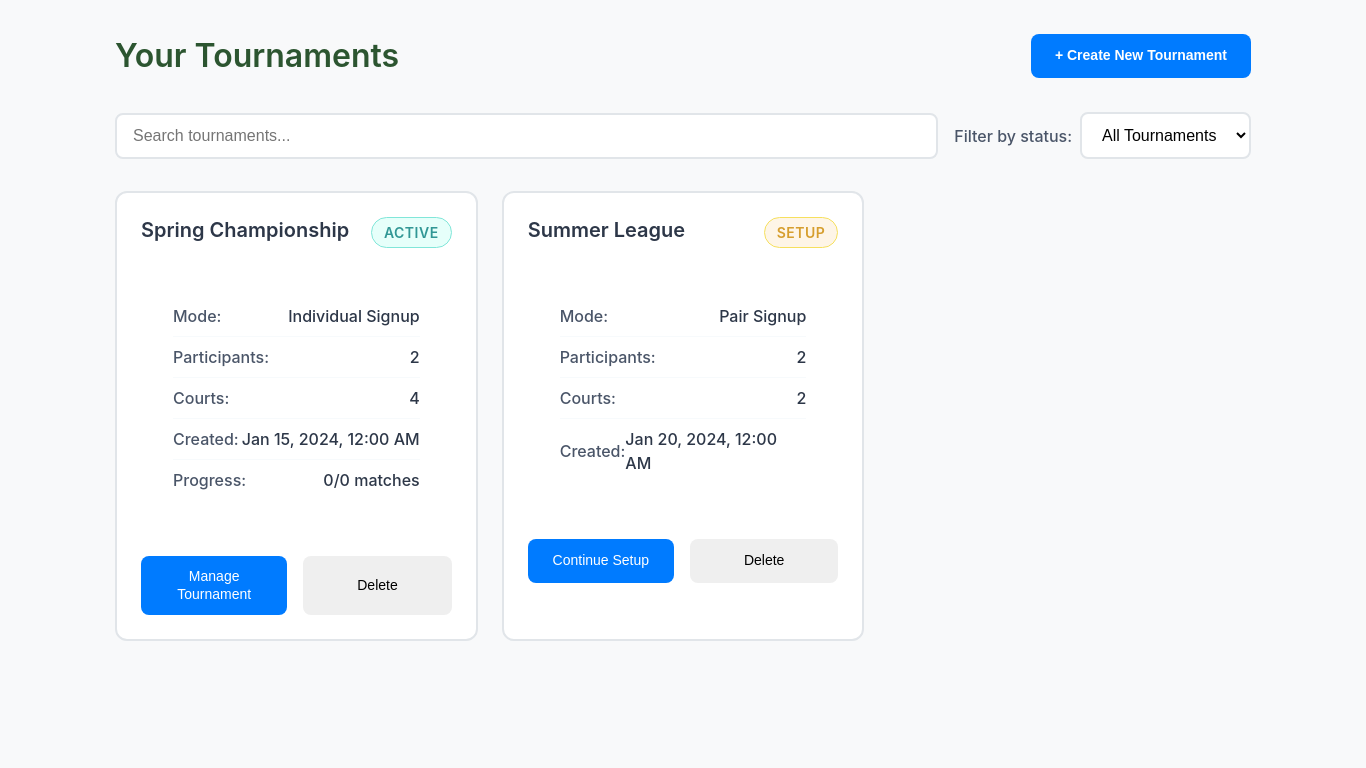
Test: TournamentList › filters tournaments by search term
This screenshot has width=1366, height=768.
expect the heading "Spring Championship" is shown: met, box [141, 217, 355, 243]
expect the heading "Summer League" is shown: met, box [528, 218, 685, 242]
In the field with placeholder "Search tournaments...": [527, 136] box [115, 112, 938, 158], type "Spring"
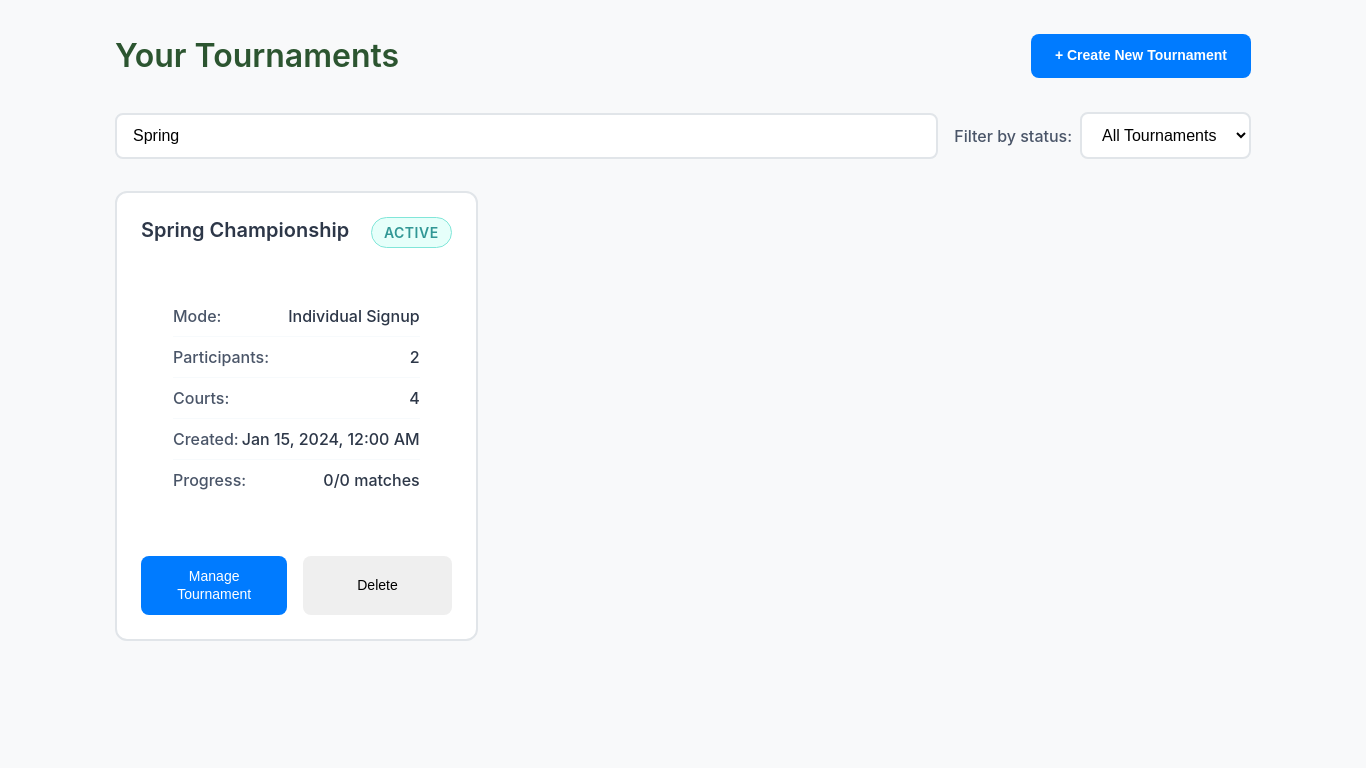
expect the heading "Spring Championship" is shown: met, box [141, 217, 355, 243]
expect the heading "Summer League" is gone: met
